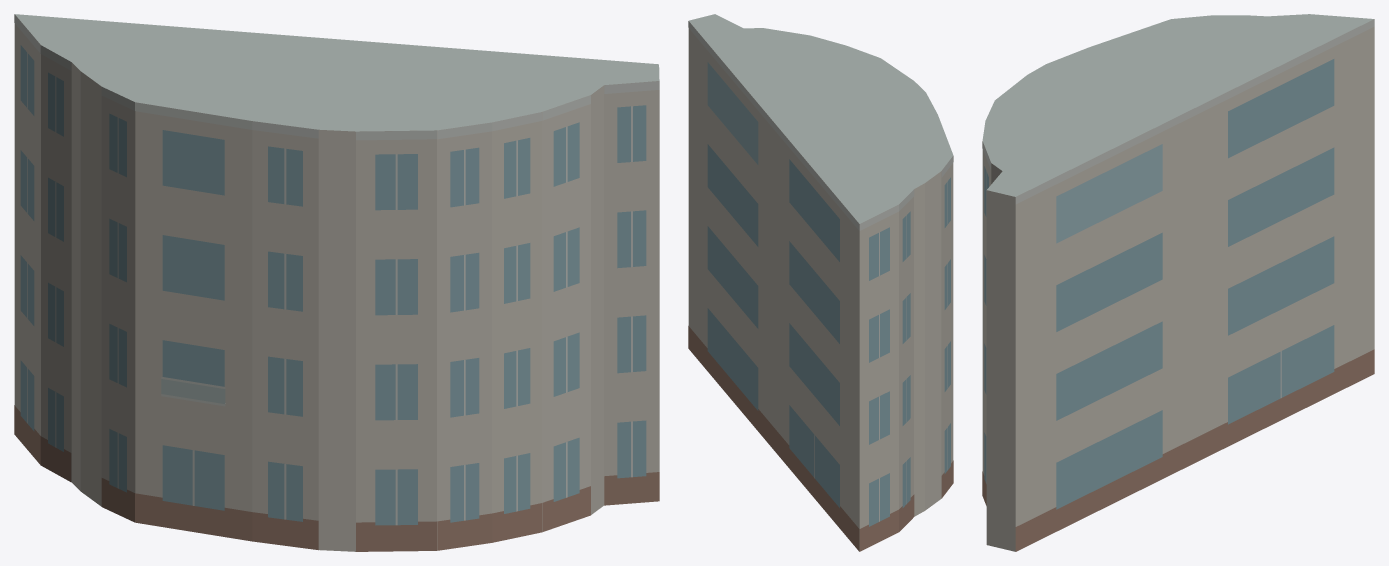
File: survey-upis-32772677.glb
3 views of the same model, side by side, from view 1: azimuth 30°, elevation 25°; view 2: azimuth 150°, elevation 25°; view 3: azimuth 270°, elevation 25° (orthographic). The views are drawn at different scales.
Parts seen in each view (by area): view 1: survey-upis-32772677.tmp; view 2: survey-upis-32772677.tmp; view 3: survey-upis-32772677.tmp.
Part boxes in pixels (<box>): survey-upis-32772677.tmp: <box>14,14,659,551</box>; survey-upis-32772677.tmp: <box>688,14,953,551</box>; survey-upis-32772677.tmp: <box>982,14,1374,551</box>.
Bounding box in the file's own units: 12.69 × 11.47 × 11.49.
